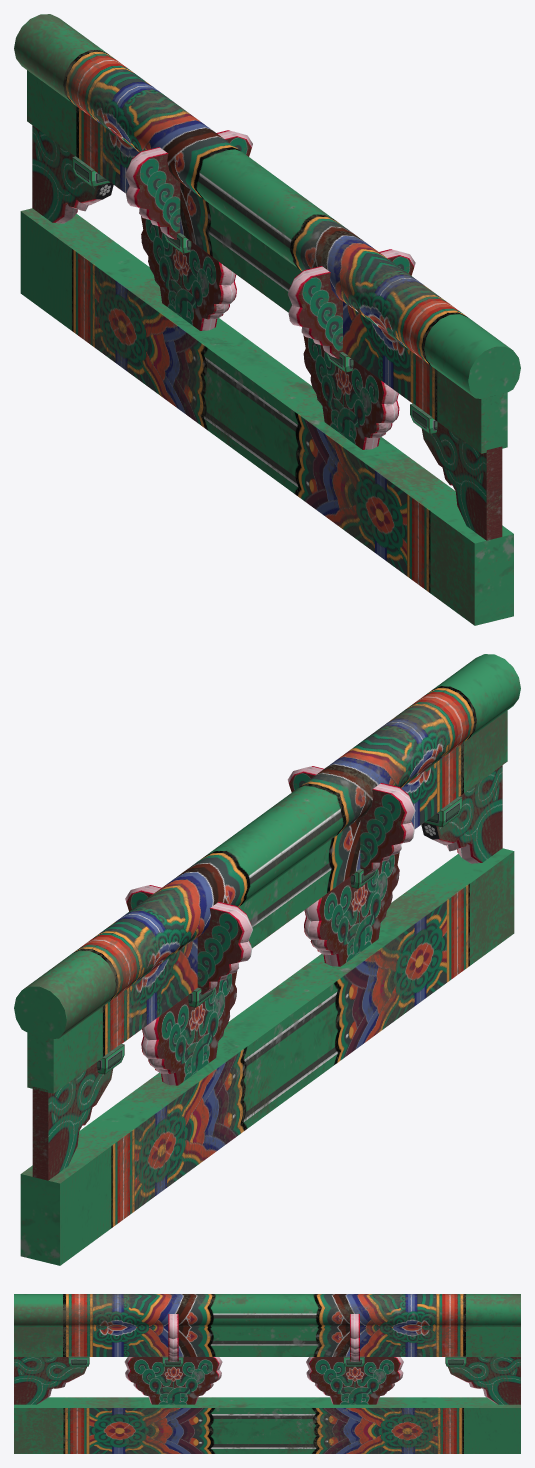
File: SM_Purlin03a.fbx
The picture shows the model from 3 angles, top to bottom: view 1: azimuth 30°, elevation 25°; view 2: azimuth 150°, elevation 25°; view 3: azimuth 270°, elevation 25°; orthographic projection. The views are drawn at different scales.
Parts seen in each view (by area): view 1: SM_Purlin03a; view 2: SM_Purlin03a; view 3: SM_Purlin03a.
Part boxes in pixels (box(x1,y1,x2,y2)): SM_Purlin03a: box(14, 14, 520, 625); SM_Purlin03a: box(14, 654, 520, 1265); SM_Purlin03a: box(14, 1294, 520, 1453).
Bounding box in the file's own units: 48.79 × 300 × 99.93.
2 materials, 2 textured.
